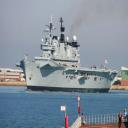Portanaves: (16, 14, 120, 93)
